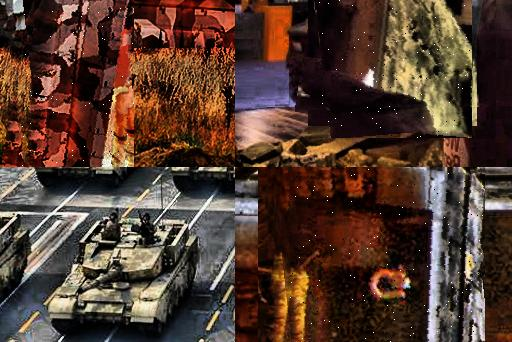tanks: (291, 168, 486, 342), (317, 1, 472, 139), (21, 1, 132, 168), (49, 220, 200, 336)
